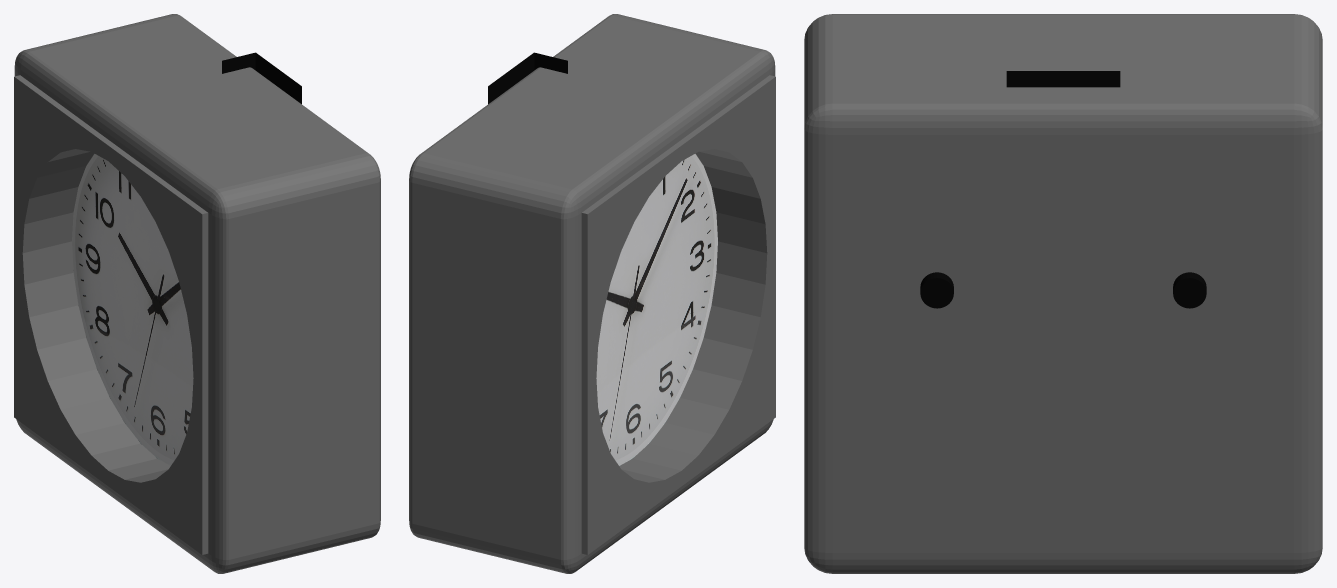
The model's file is clock002.fbx.
3 renders of one model, left to right at view 1: azimuth 30°, elevation 25°; view 2: azimuth 150°, elevation 25°; view 3: azimuth 270°, elevation 25°, orthographic. The views are drawn at different scales.
Visible parts, largest first — view 1: Cube; view 2: Cube; view 3: Cube, 柱体.
Part boxes in pixels (box(x1,y1,x2,y2)): Cube: box(14, 14, 380, 573); Cube: box(409, 14, 775, 573); Cube: box(804, 14, 1322, 573); 柱体: box(920, 272, 1206, 308).
Bounding box in the file's own units: 99.87 × 207 × 200.
